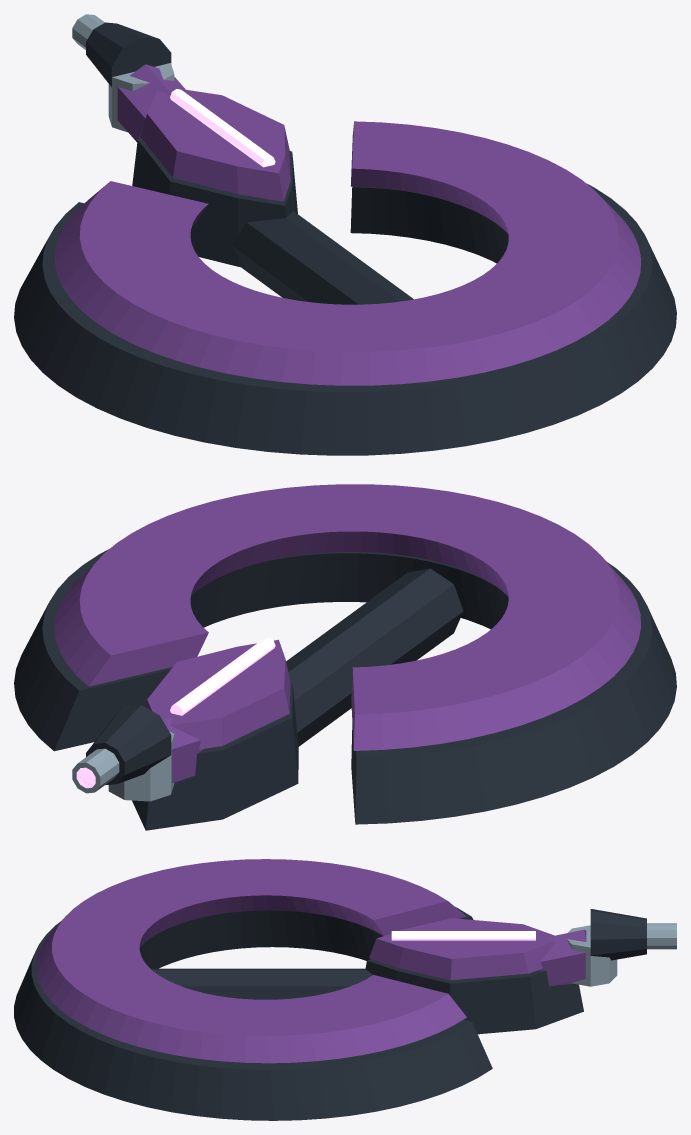
File: c5_ufo.glb
3 views of the same model, one above another, from view 1: azimuth 30°, elevation 25°; view 2: azimuth 150°, elevation 25°; view 3: azimuth 270°, elevation 25° (orthographic). The views are drawn at different scales.
Visible parts, largest first — view 1: ufo / Armor, ufo / Chassis, ufo / Energy, ufo / Titanium; view 2: ufo / Armor, ufo / Chassis, ufo / Titanium, ufo / Energy; view 3: ufo / Armor, ufo / Chassis, ufo / Titanium, ufo / Energy.
Part boxes in pixels (x1=…): ufo / Armor: x1=54, y1=64, x2=641, y2=385; ufo / Chassis: x1=14, y1=22, x2=676, y2=455; ufo / Energy: x1=170, y1=89, x2=275, y2=167; ufo / Titanium: x1=72, y1=14, x2=174, y2=132; ufo / Armor: x1=54, y1=484, x2=641, y2=782; ufo / Chassis: x1=14, y1=549, x2=676, y2=830; ufo / Titanium: x1=72, y1=731, x2=174, y2=801; ufo / Energy: x1=76, y1=637, x2=275, y2=788; ufo / Armor: x1=36, y1=859, x2=586, y2=1063; ufo / Chassis: x1=14, y1=907, x2=646, y2=1120; ufo / Titanium: x1=567, y1=923, x2=676, y2=986; ufo / Energy: x1=391, y1=931, x2=535, y2=940.
Size of the model in its own units: 1.56 by 0.375 by 2.
